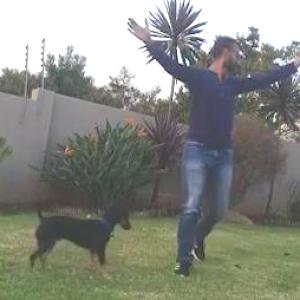takeoff: (118, 8, 299, 280)
